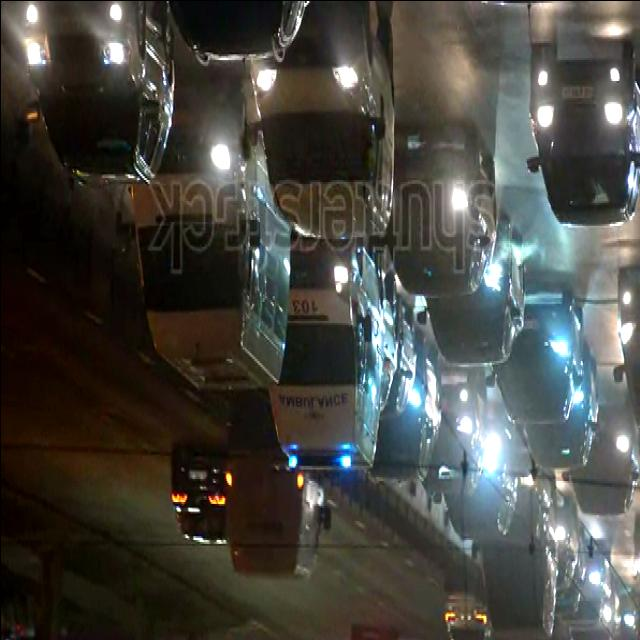ambulance: (262, 222, 382, 468)
